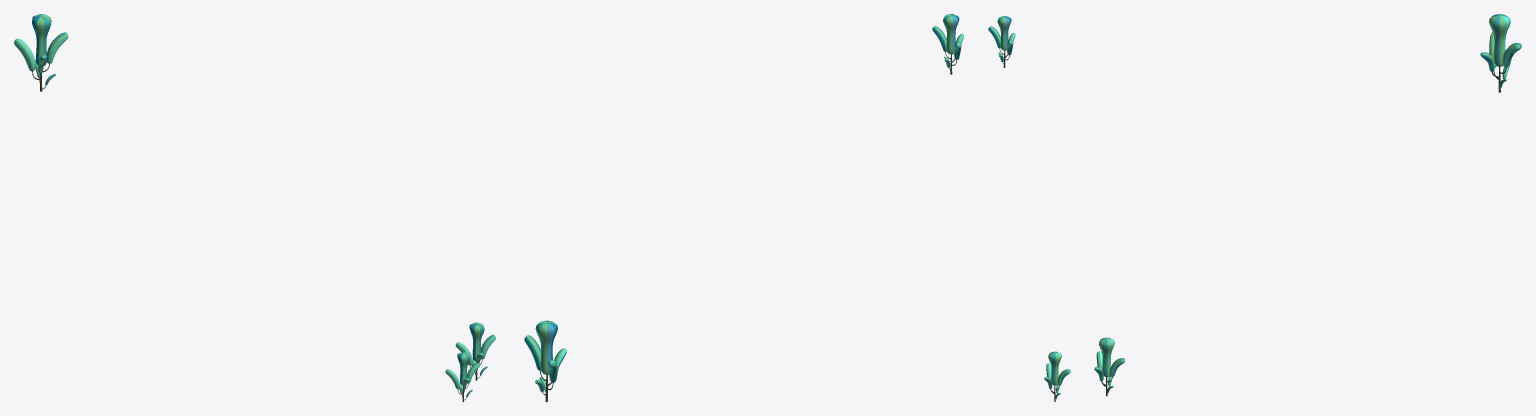
Rendered from treeG.fbx.
The picture shows the model from 3 angles, left to right: view 1: azimuth 30°, elevation 25°; view 2: azimuth 150°, elevation 25°; view 3: azimuth 330°, elevation 25°; orthographic projection. The views are drawn at different scales.
Parts seen in each view (by area): view 1: treeG; view 2: treeG; view 3: treeG.
Boxes of the visible parts, <box> form: treeG: <box>14,14,495,401</box>; treeG: <box>524,14,1015,401</box>; treeG: <box>1044,14,1521,401</box>.
Size of the model in its own units: 243 by 277 by 2980.
